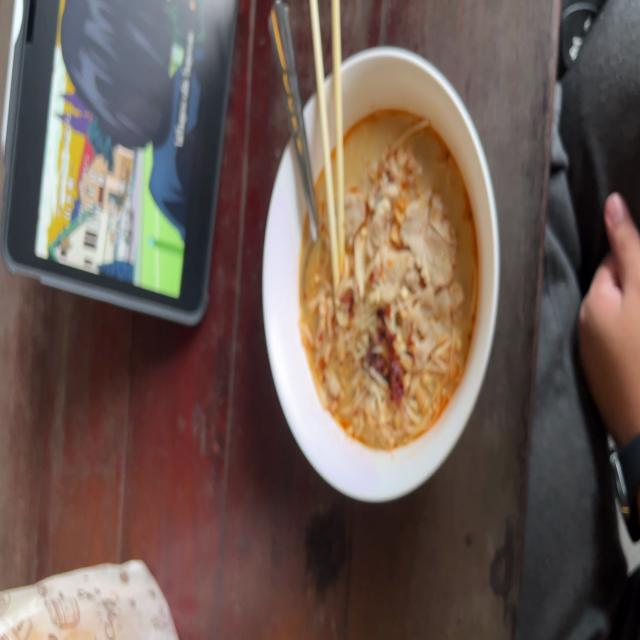noodle: (282, 94, 496, 465)
